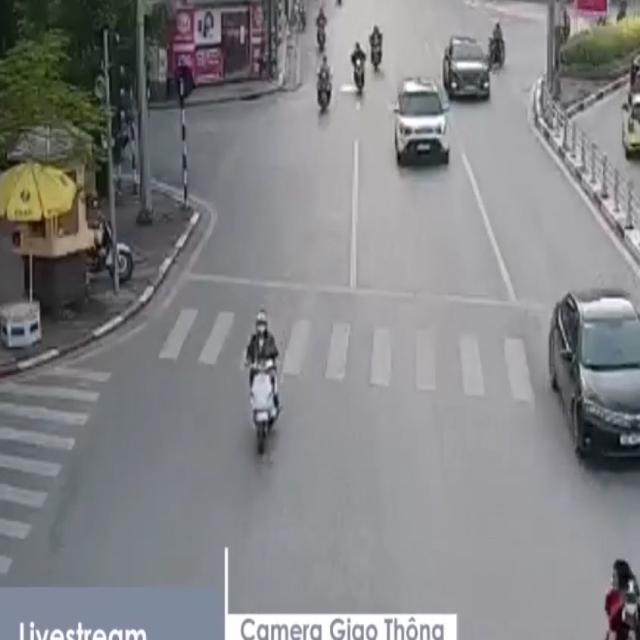car: (550, 296, 640, 462), (394, 80, 452, 160), (442, 36, 491, 100)
motorbike: (245, 309, 282, 455), (316, 55, 332, 122), (489, 18, 506, 72)
